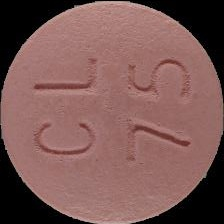60429-301: (0, 0, 224, 224)
